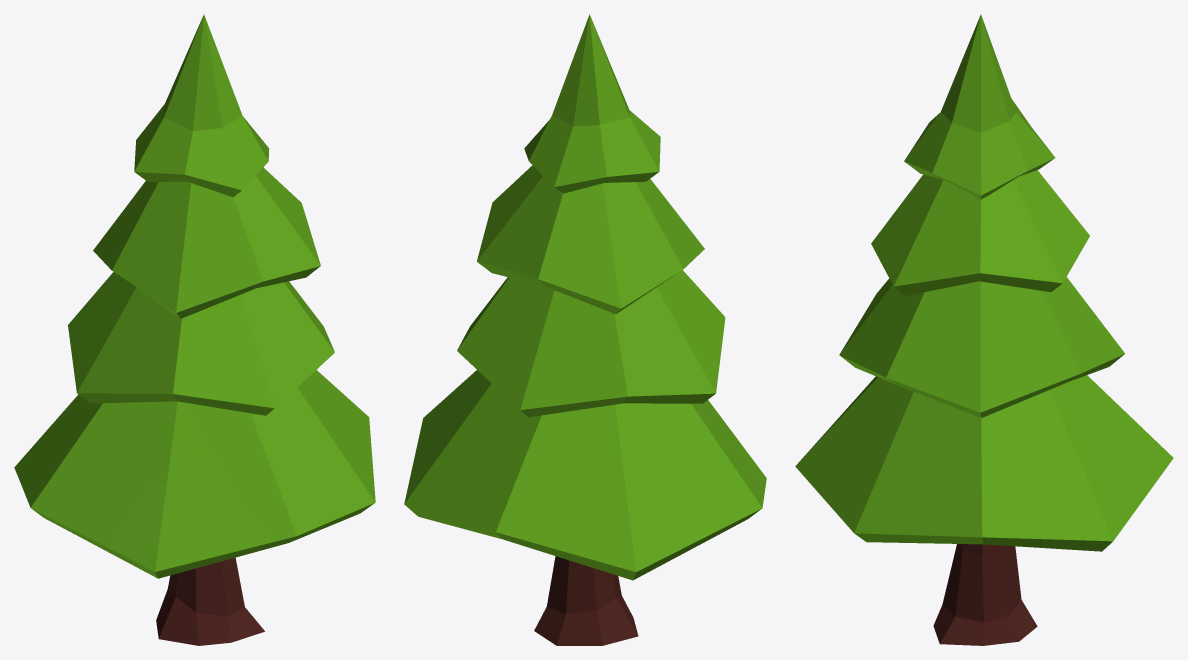
File: Дерево.fbx
3 renders of one model, left to right at view 1: azimuth 30°, elevation 25°; view 2: azimuth 150°, elevation 25°; view 3: azimuth 270°, elevation 25°, orthographic.
Parts seen in each view (by area): view 1: 1; view 2: 1; view 3: 1.
Boxes of the visible parts, <box> form: 1: <box>14,14,375,645</box>; 1: <box>404,14,766,645</box>; 1: <box>795,14,1173,645</box>.
Bounding box in the file's own units: 1058 × 1826 × 1026.
